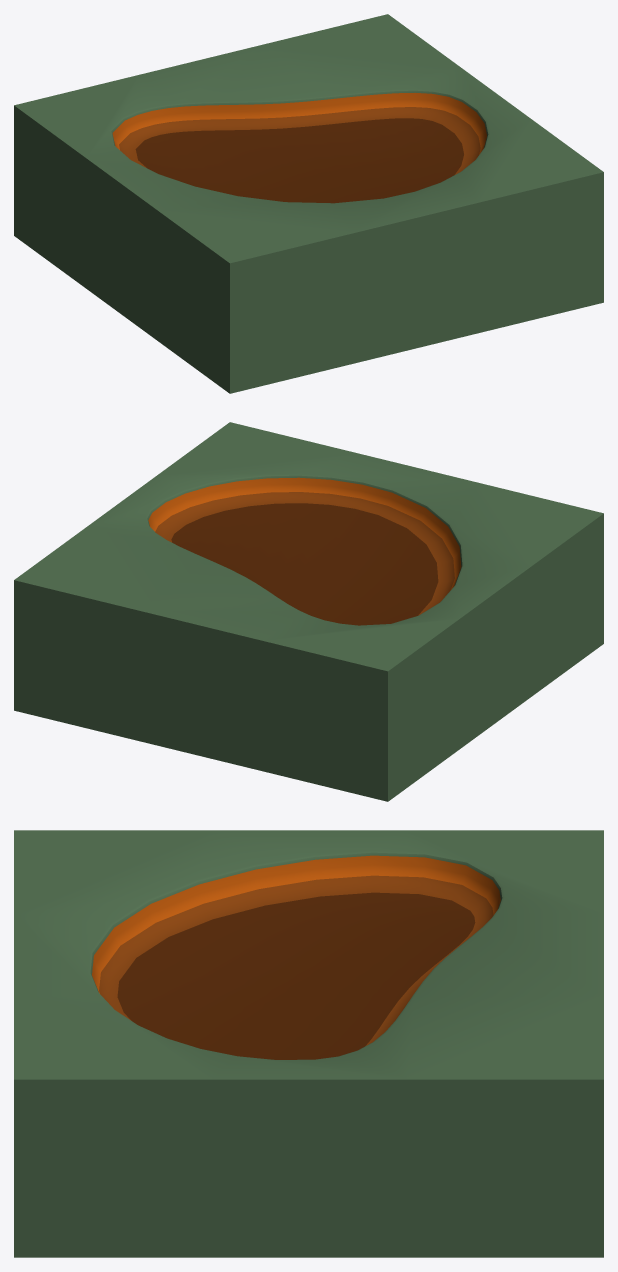
The model's file is mud-pit.glb.
3 views of the same model, one above another, from view 1: azimuth 30°, elevation 25°; view 2: azimuth 150°, elevation 25°; view 3: azimuth 270°, elevation 25° (orthographic). The views are drawn at different scales.
Visible parts, largest first — view 1: Cube.002; view 2: Cube.002; view 3: Cube.002.
Part boxes in pixels (left/top/right/bottom): Cube.002: left=14, top=14, right=603, bottom=393; Cube.002: left=14, top=422, right=603, bottom=801; Cube.002: left=14, top=830, right=603, bottom=1257.
Size of the model in its own units: 3 by 1 by 3.
